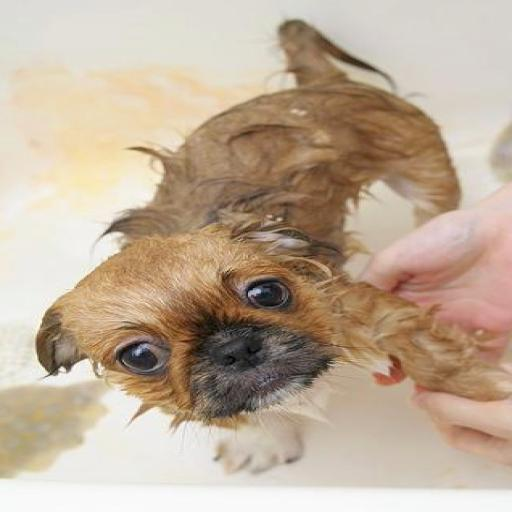dog_face: (31, 237, 370, 420)
